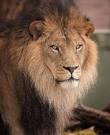lion: (1, 1, 100, 135)
